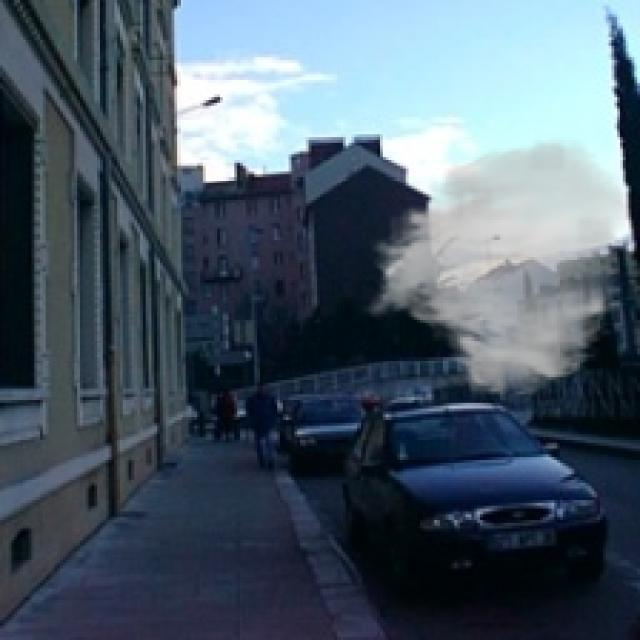Smoke: (363, 137, 634, 400)
